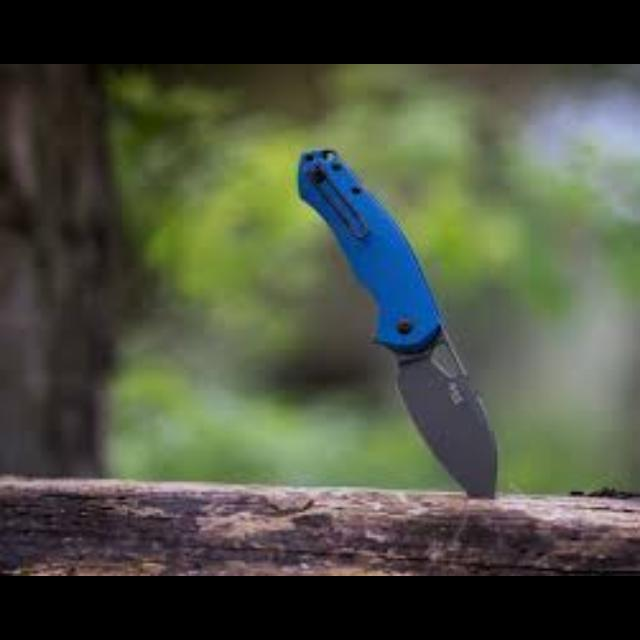Knife: (296, 147, 497, 498)
